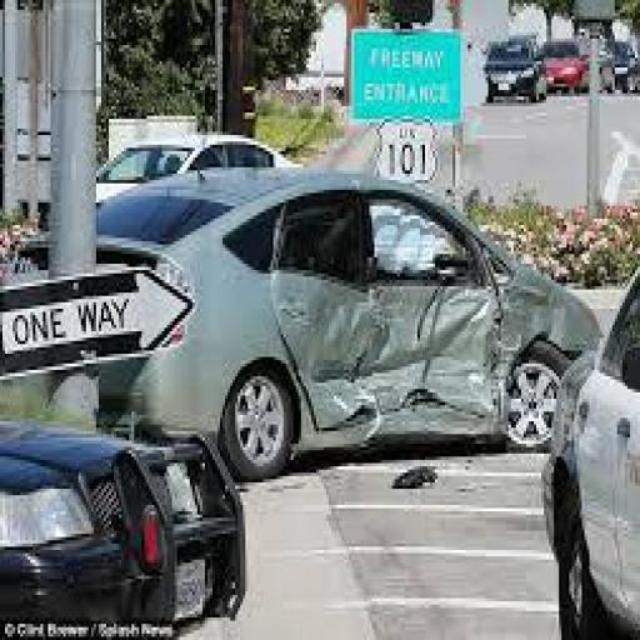crash: (261, 179, 582, 449)
